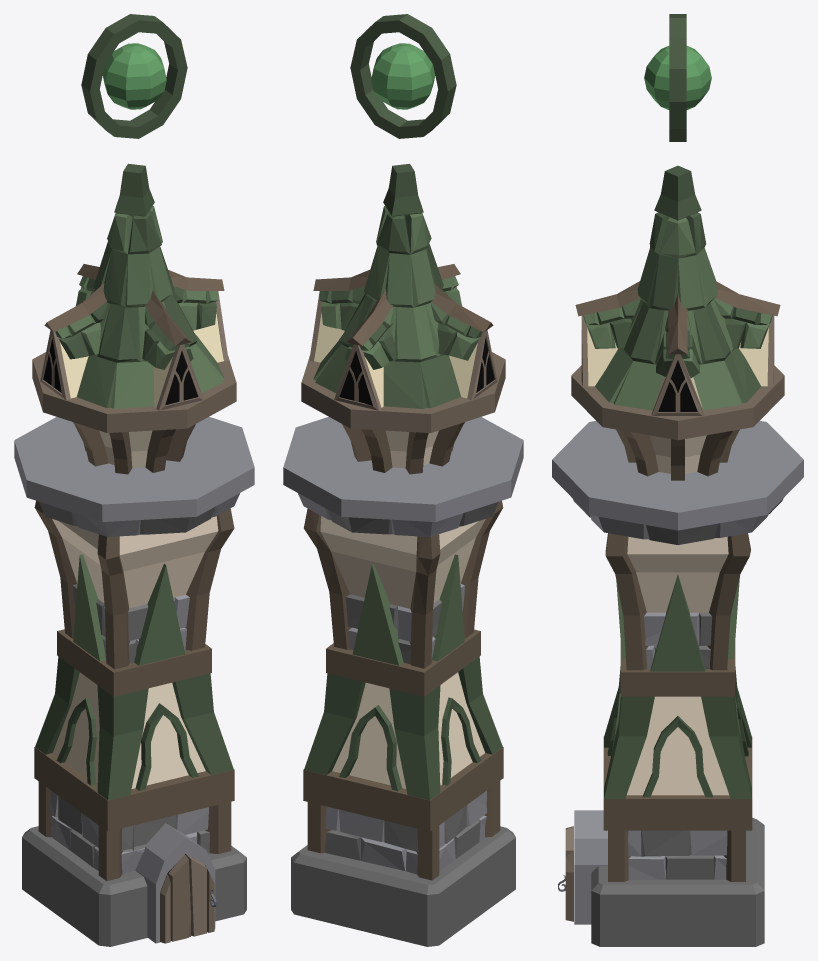
Rendered from Torre_LOD.fbx.
The picture shows the model from 3 angles, left to right: view 1: azimuth 30°, elevation 25°; view 2: azimuth 150°, elevation 25°; view 3: azimuth 270°, elevation 25°; orthographic projection.
Visible parts, largest first — view 1: Torre_LOD0; view 2: Torre_LOD0; view 3: Torre_LOD0.
Part boxes in pixels (x1,y1,x2,y2): Torre_LOD0: (14,14,254,946); Torre_LOD0: (283,14,523,946); Torre_LOD0: (552,14,803,946).
Size of what is drawn, in the model's own units: 552 by 2158 by 552.
